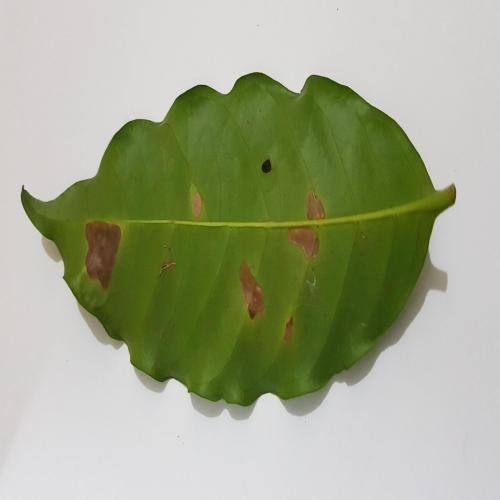leaf: (287, 189, 325, 260)
